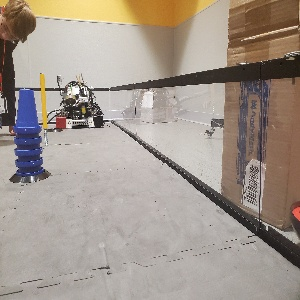Blue_5: (12, 87, 44, 174)
